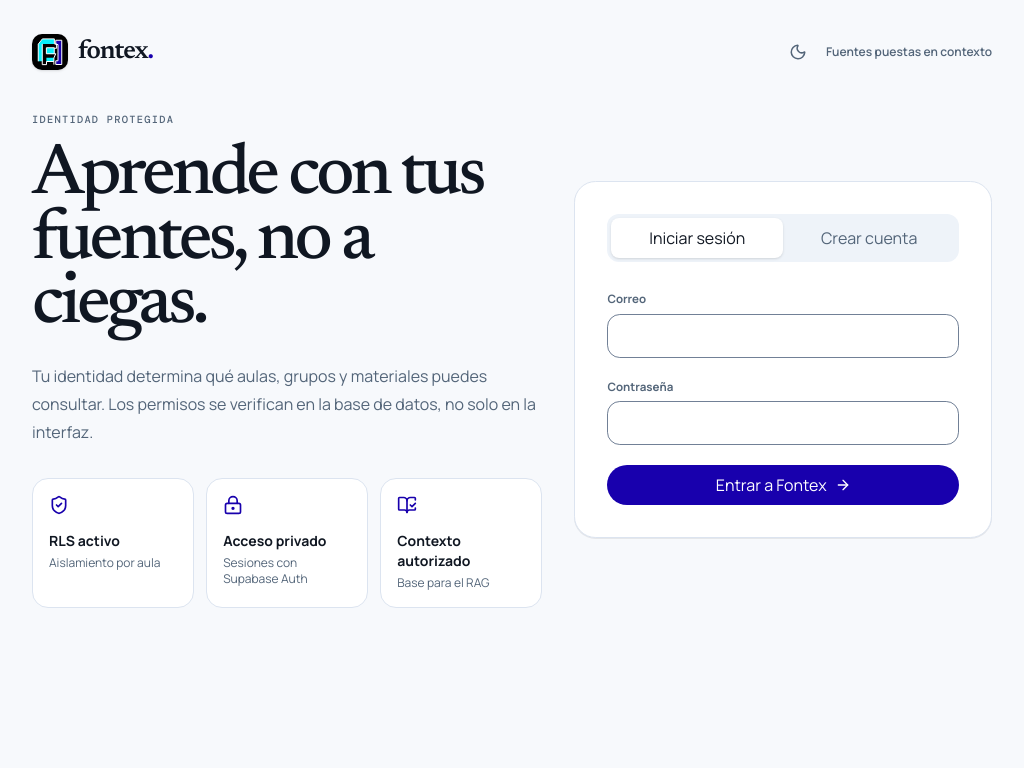
Test: Fontex authentication screen › requires a display name when creating an account
What coordinates should you click on to do the following:
click the button "Crear cuenta"
I would click on:
 (869, 238)
Its box is [783, 218, 955, 258].
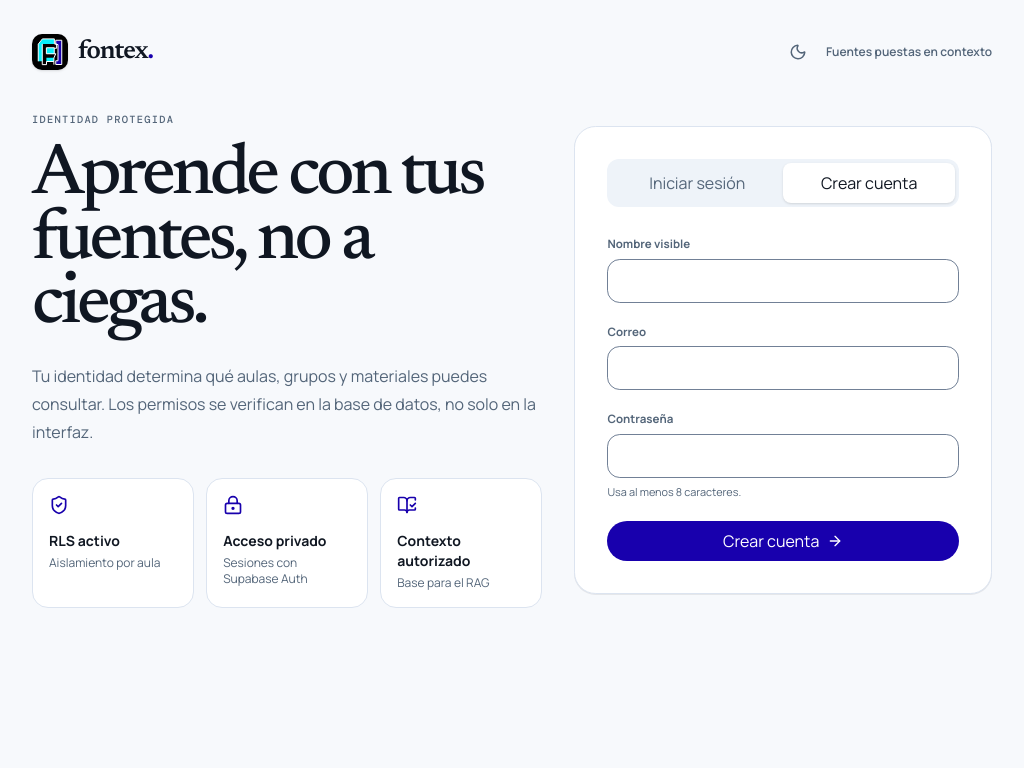
Expected: the button "Crear cuenta" below "Usa al menos 8 caracteres." is shown, [607, 521, 959, 561]
